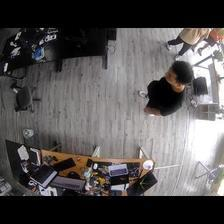normal: (138, 60, 193, 116)
